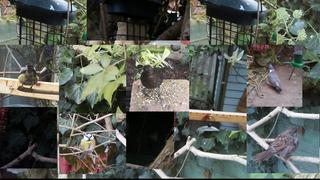blackbird: (140, 65, 169, 102)
blue tit: (18, 65, 39, 93), (79, 132, 96, 159)
dunnock: (251, 127, 300, 163)
wood pigeon: (268, 65, 282, 92)
